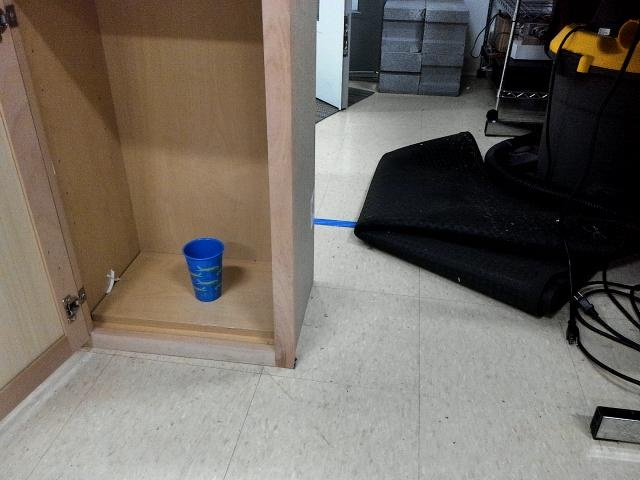water_cup: (178, 232, 229, 303)
